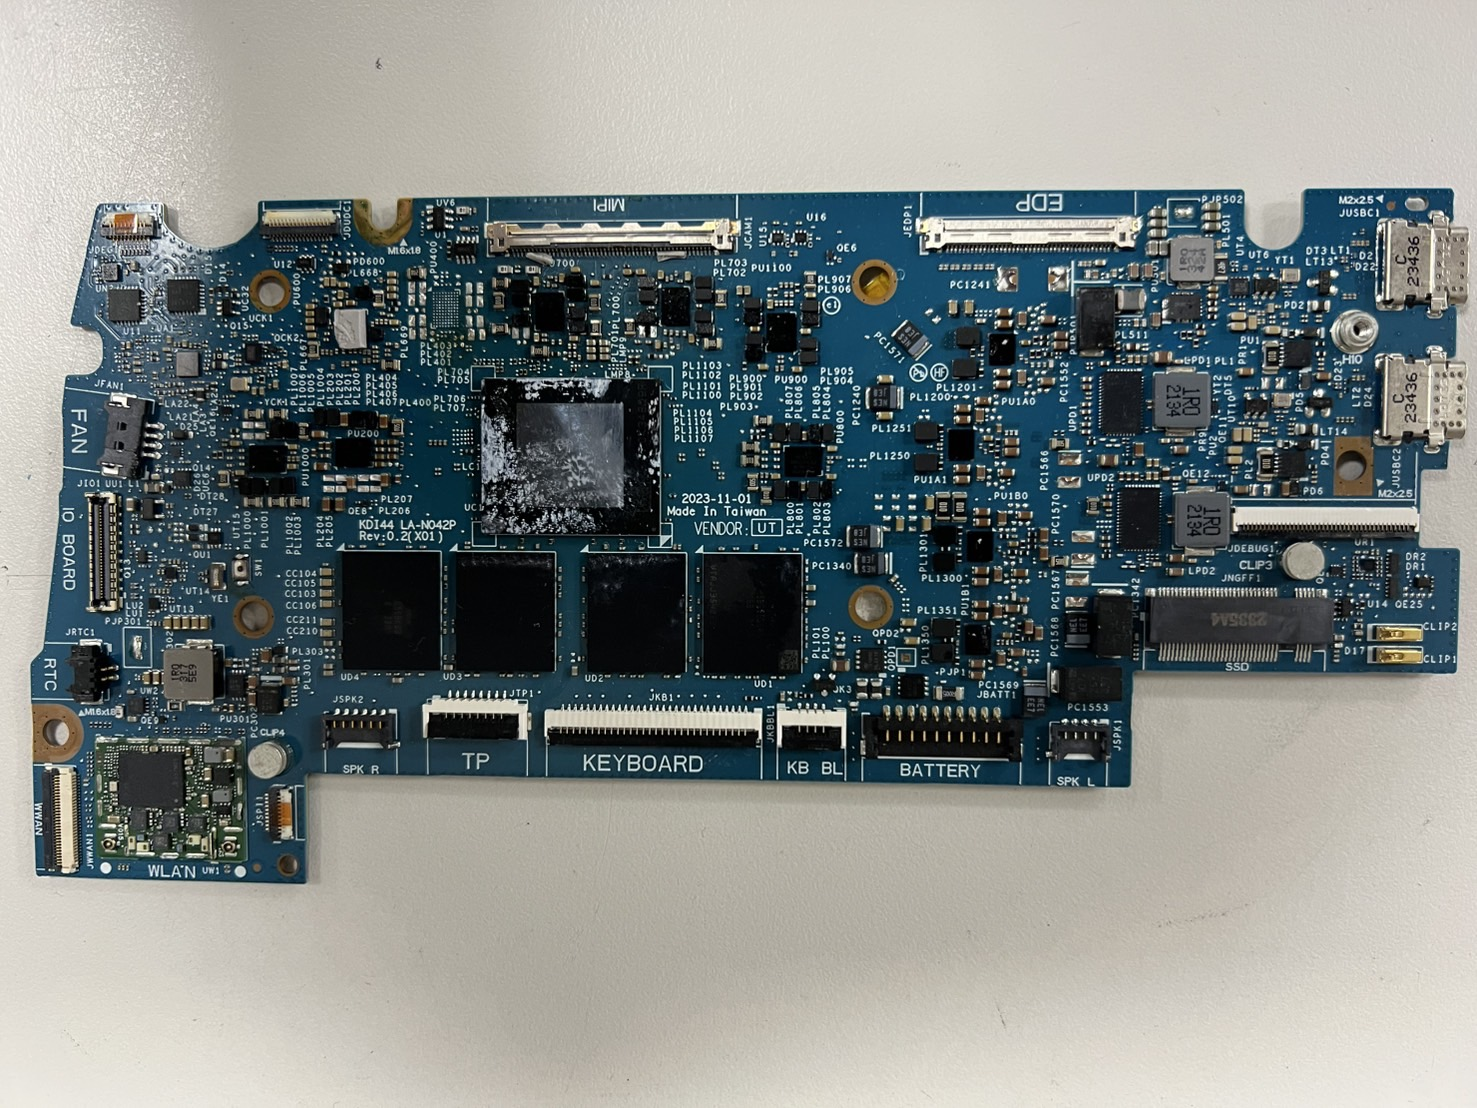error-garbage: (474, 407, 608, 538), (630, 391, 674, 509), (507, 363, 617, 409)
